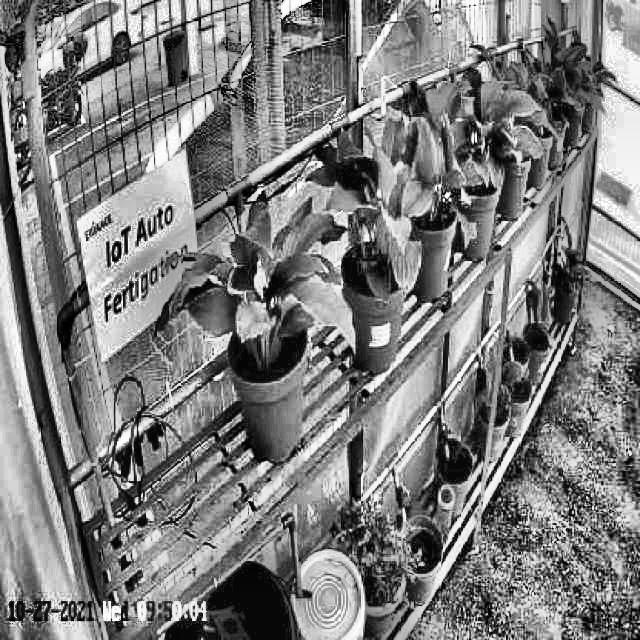plants: (150, 190, 358, 372), (320, 132, 422, 292), (376, 95, 478, 248), (432, 66, 540, 202)
